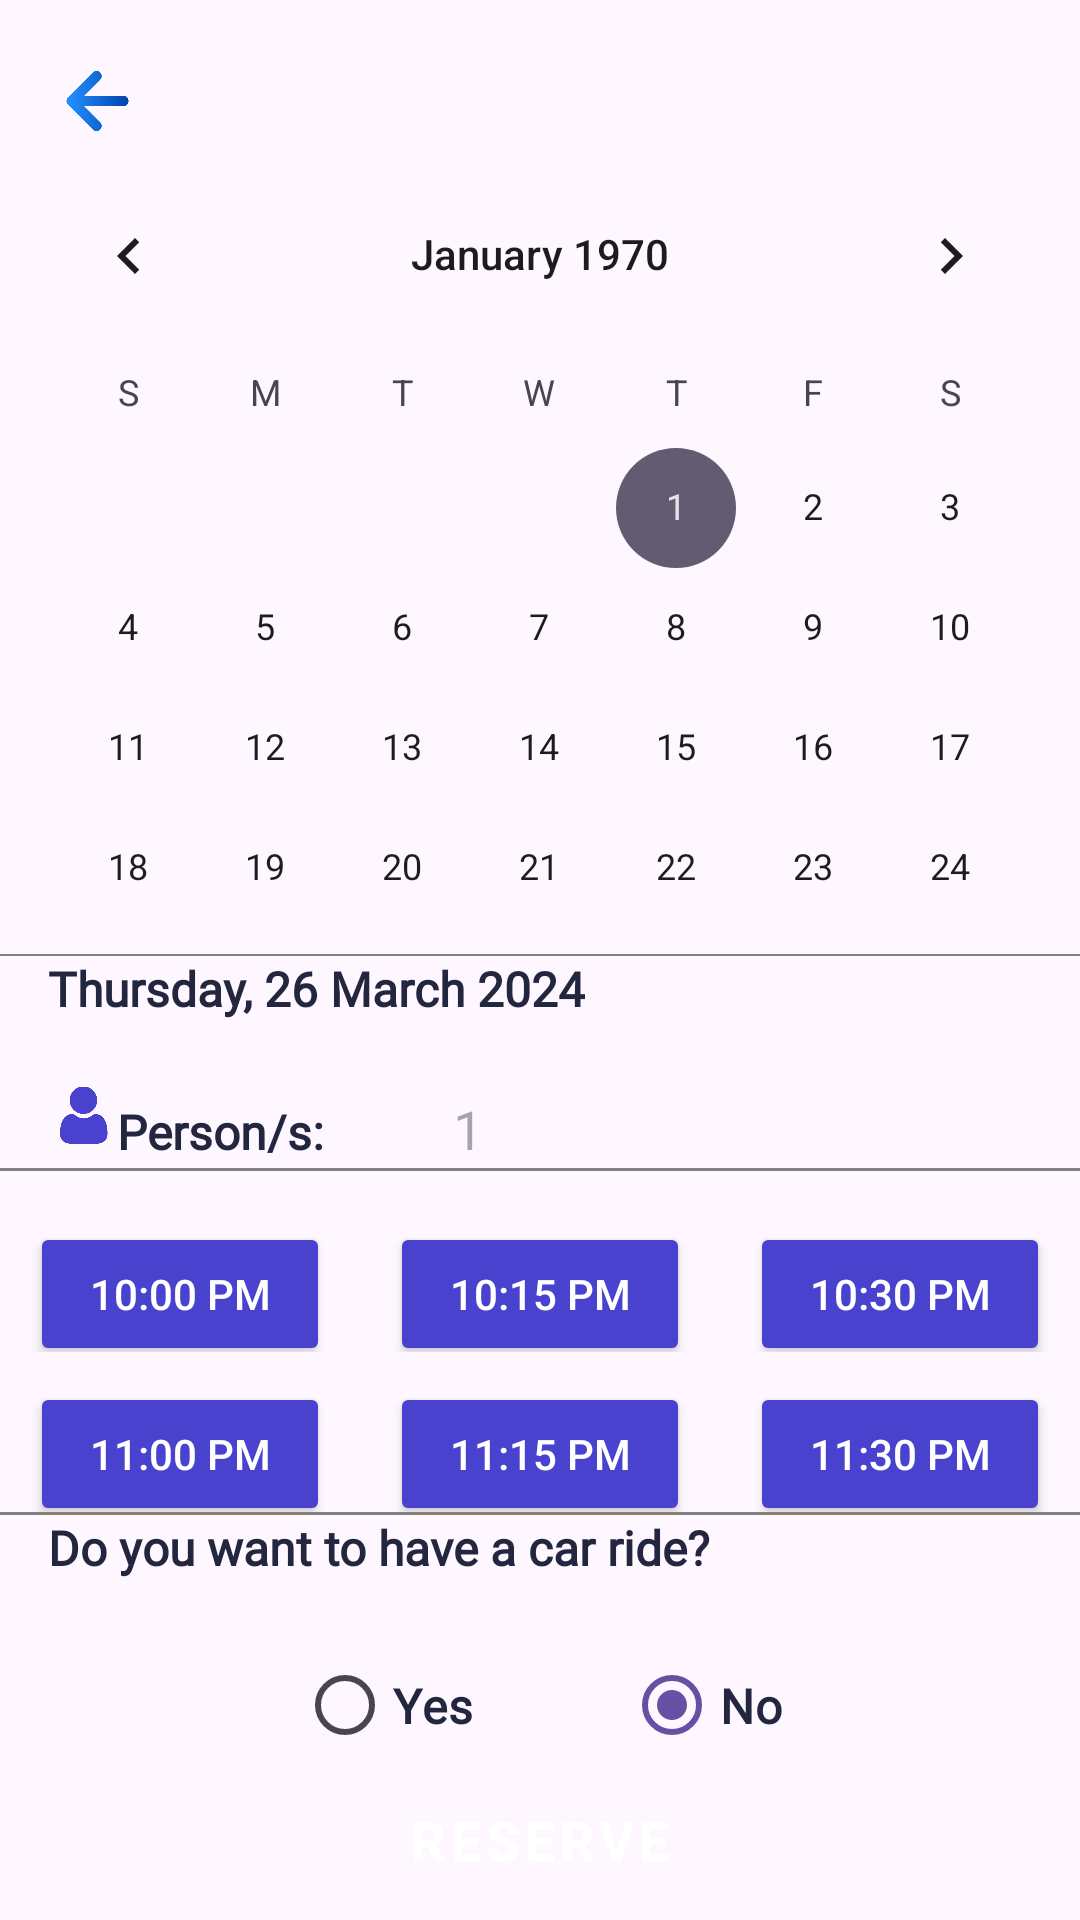

Named icons in this screenshot (1080×1920) and their bounding boxes, (x1,y1,x2,y2):
user: (60,1087,108,1144)
